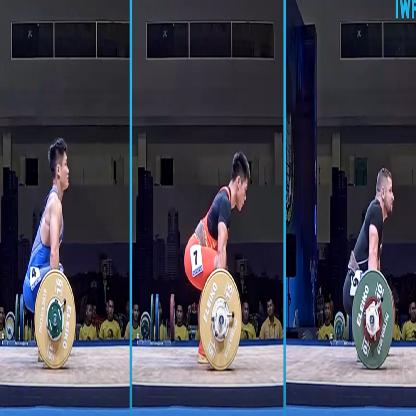Barbell: (31, 263, 82, 372), (196, 261, 245, 372), (351, 262, 395, 373)
